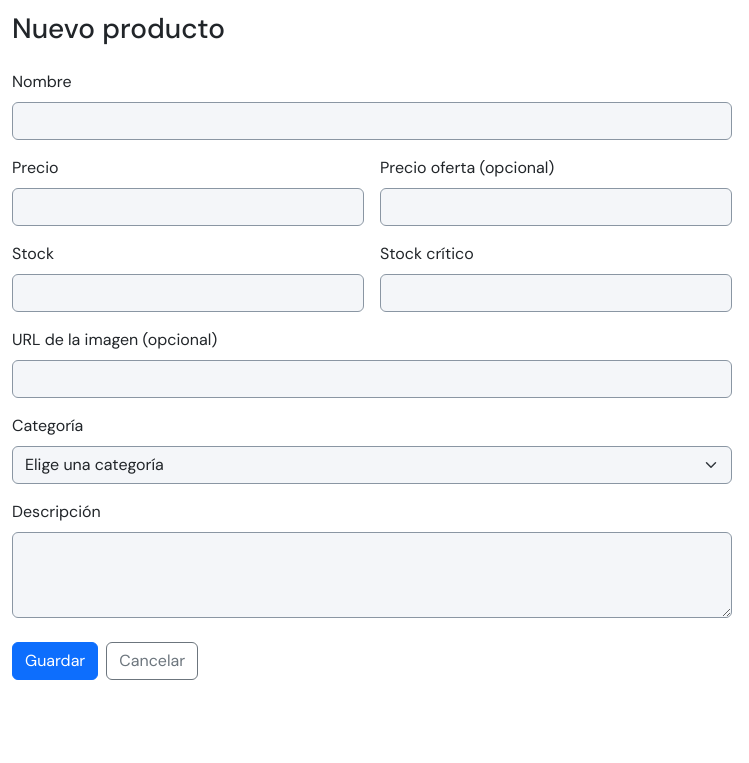
Scenario: ProductoForm › muestra errores si se envía vacío y no guarda
Click the button "Guardar" at (55, 661), box 12,642 -> 98,680
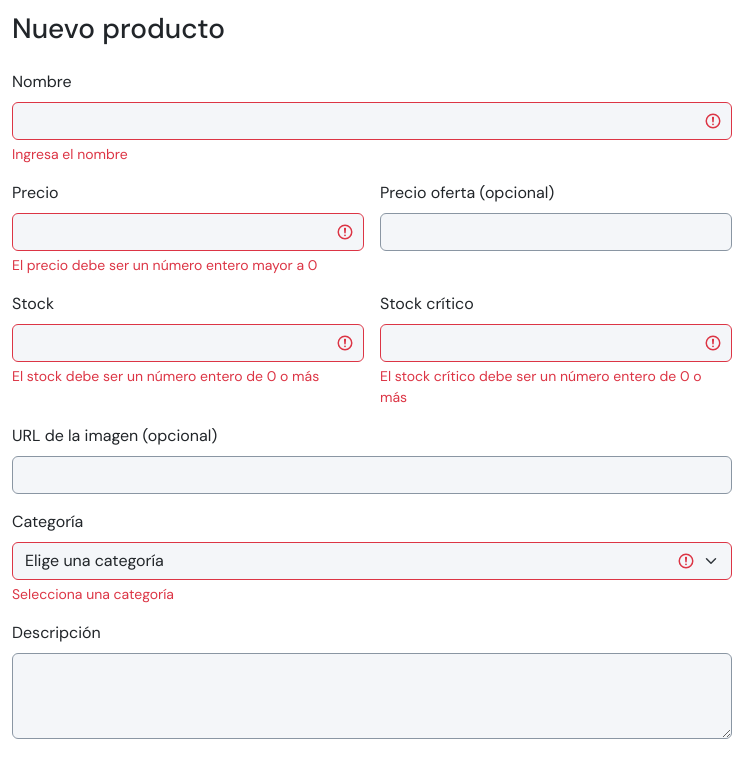
Now the text "Ingresa el nombre" is shown, box 12,145 -> 128,163
Now the text "El precio debe ser un número entero mayor a 0" is shown, box 12,255 -> 364,276
Now the text "El stock debe ser un número entero de 0 o más" is shown, box 12,366 -> 364,387
